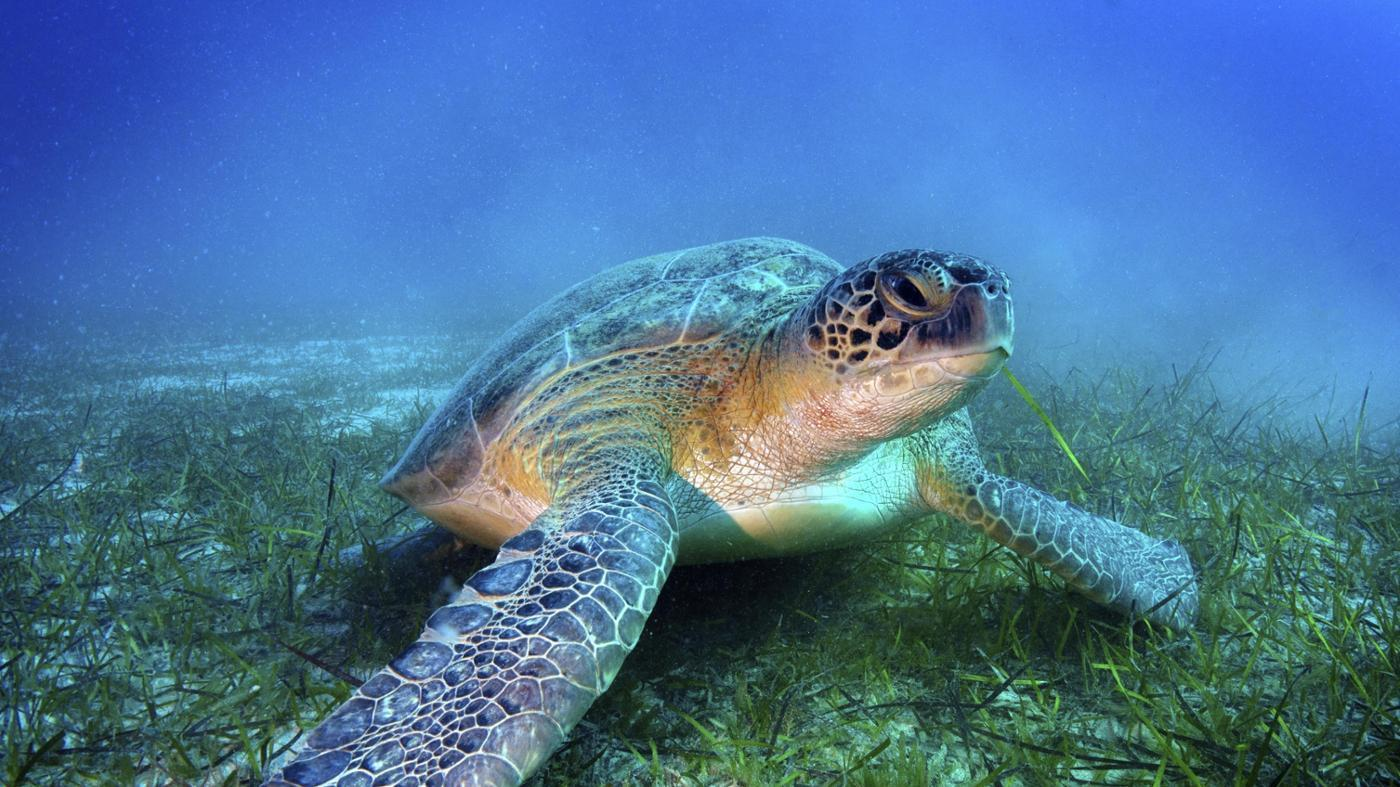turtle: (797, 237, 1026, 438)
